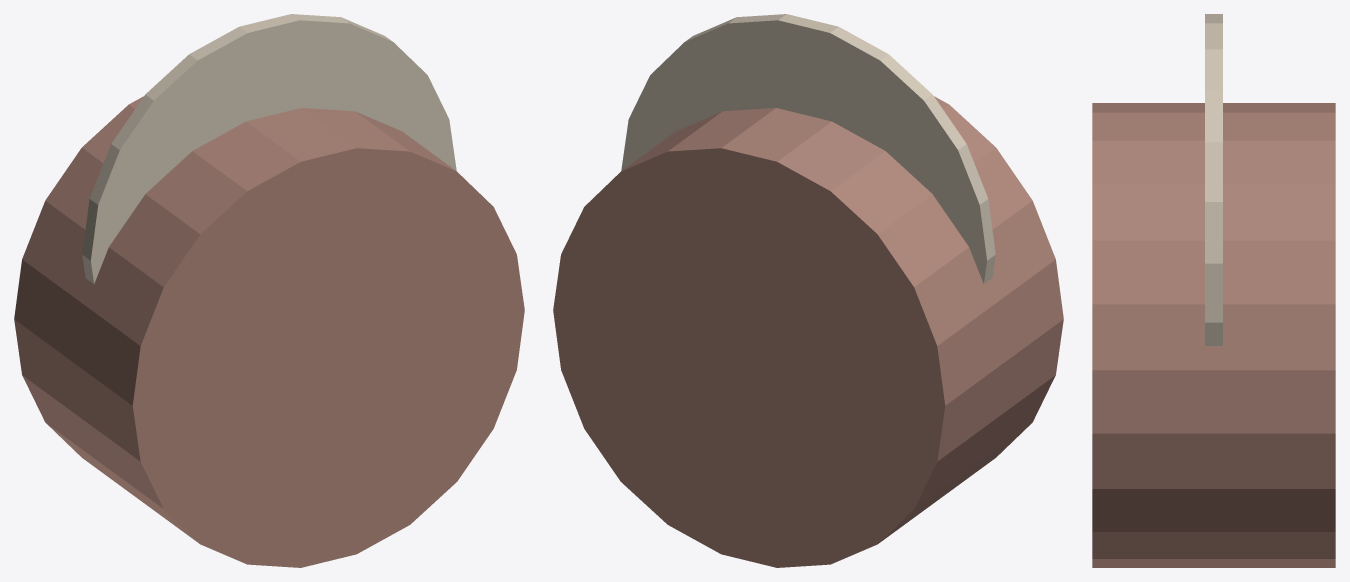
Rendered from drum_platform.glb.
The picture shows the model from 3 angles, left to right: view 1: azimuth 30°, elevation 25°; view 2: azimuth 150°, elevation 25°; view 3: azimuth 270°, elevation 25°; orthographic projection. The views are drawn at different scales.
Parts seen in each view (by area): view 1: world; view 2: world; view 3: world.
Boxes of the visible parts, <box> form: world: <box>14,14,524,567</box>; world: <box>553,14,1063,567</box>; world: <box>1092,14,1335,567</box>.
Bounding box in the file's own units: 2.1 × 2.53 × 1.1.
